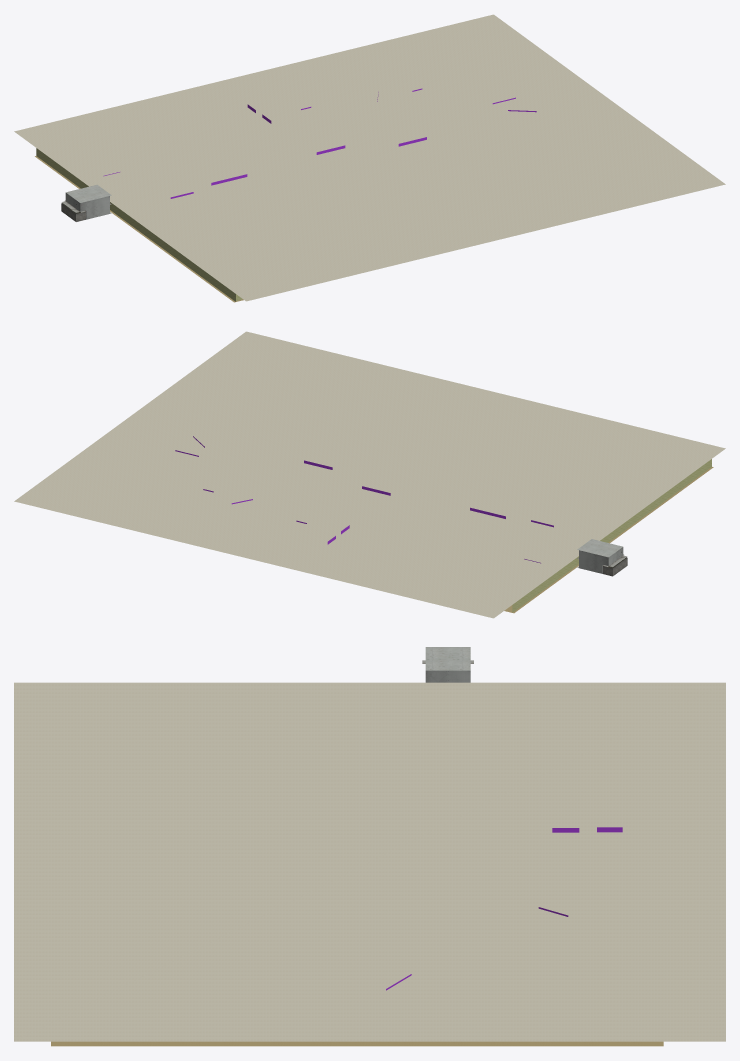
The model's file is kcl_no_movw.dae.
The picture shows the model from 3 angles, top to bottom: view 1: azimuth 30°, elevation 25°; view 2: azimuth 150°, elevation 25°; view 3: azimuth 270°, elevation 25°; orthographic projection. The views are drawn at different scales.
Visible parts, largest first — view 1: ceiling, wall, out_of_bounds; view 2: ceiling, wall, out_of_bounds; view 3: ceiling, floor.
Part boxes in pixels (left/top/right/bottom): ceiling: left=14, top=14, right=725, bottom=301; wall: left=36, top=148, right=242, bottom=301; out_of_bounds: left=103, top=88, right=536, bottom=198; ceiling: left=14, top=331, right=725, bottom=618; wall: left=512, top=459, right=711, bottom=612; out_of_bounds: left=175, top=436, right=553, bottom=563; ceiling: left=14, top=647, right=725, bottom=1041; floor: left=51, top=1041, right=663, bottom=1046.
Size of the model in its own units: 91.04 by 71.03 by 3.77.
